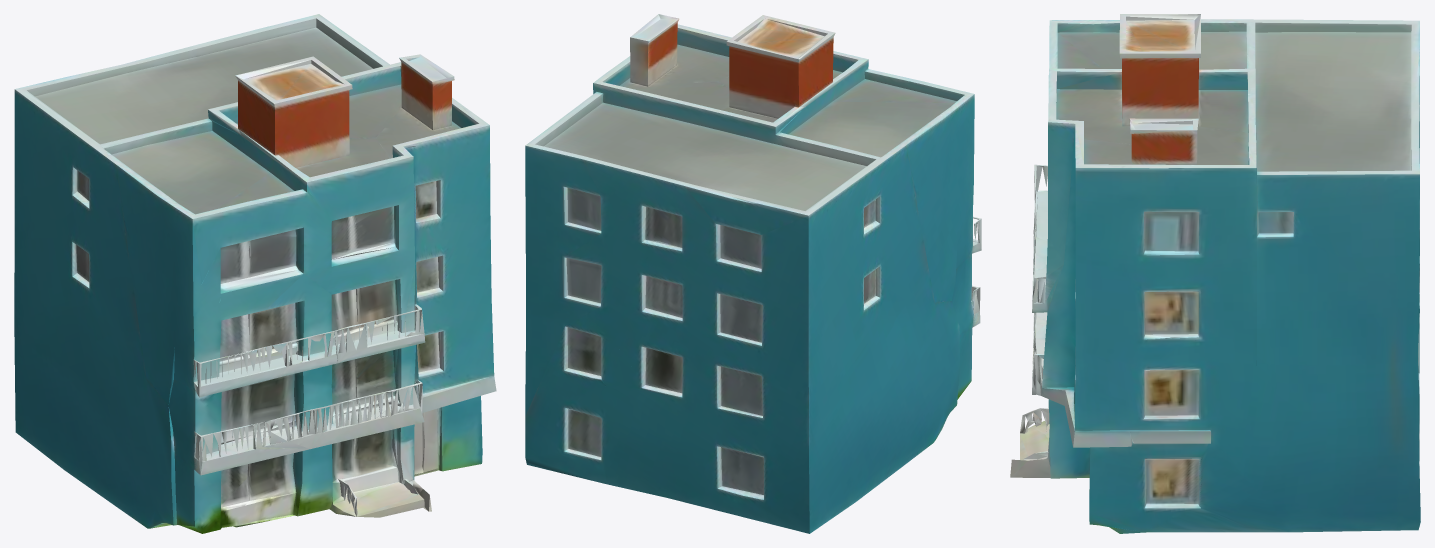
File: townhouseBlock.glb
3 renders of one model, left to right at view 1: azimuth 30°, elevation 25°; view 2: azimuth 150°, elevation 25°; view 3: azimuth 270°, elevation 25°, orthographic. The views are drawn at different scales.
Visible parts, largest first — view 1: model; view 2: model; view 3: model.
Part boxes in pixels (x1,y1,x2,y2): model: (14, 14, 496, 533); model: (525, 14, 981, 533); model: (1010, 14, 1420, 533).
Bounding box in the file's own units: 1.55 × 1.9 × 1.67.
Materials: 1 (1 with a texture image).
